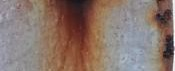Corrosion: (39, 1, 121, 71), (146, 1, 175, 71)
